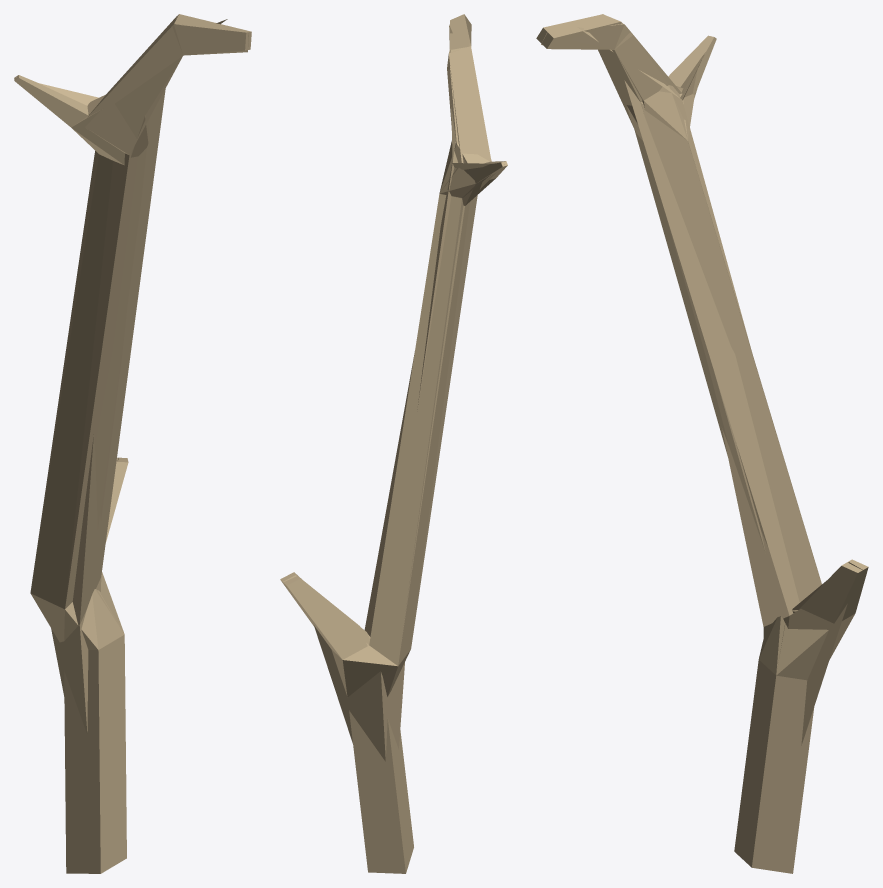
The model's file is stick_02_LOD.fbx.
3 views of the same model, side by side, from view 1: azimuth 30°, elevation 25°; view 2: azimuth 150°, elevation 25°; view 3: azimuth 270°, elevation 25° (orthographic). The views are drawn at different scales.
Parts seen in each view (by area): view 1: stick2, stick2_1, stick2_2; view 2: stick2_1, stick2, stick2_2; view 3: stick2_1, stick2, stick2_2.
Part boxes in pixels (<box>): stick2: <box>14,14,251,873</box>; stick2_1: <box>16,15,248,873</box>; stick2_2: <box>38,19,227,733</box>; stick2_1: <box>283,43,491,873</box>; stick2: <box>280,14,507,873</box>; stick2_2: <box>314,24,496,761</box>; stick2_1: <box>541,14,862,873</box>; stick2: <box>536,15,868,873</box>; stick2_2: <box>577,27,847,745</box>.
Size of the model in its own units: 14.26 by 65.21 by 22.95.
